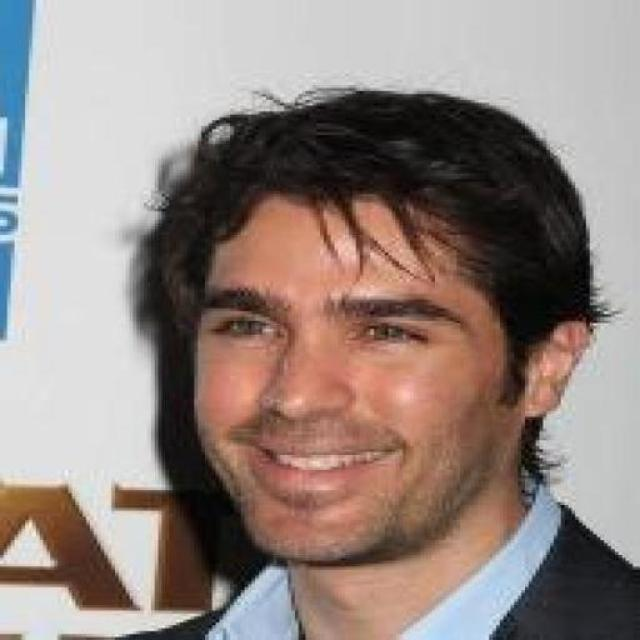bareface: (142, 79, 570, 589)
